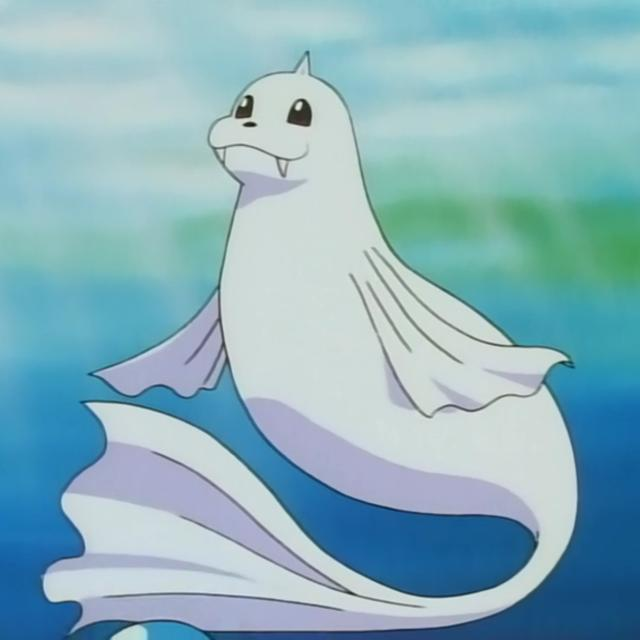Dewgong: (91, 43, 567, 640)
